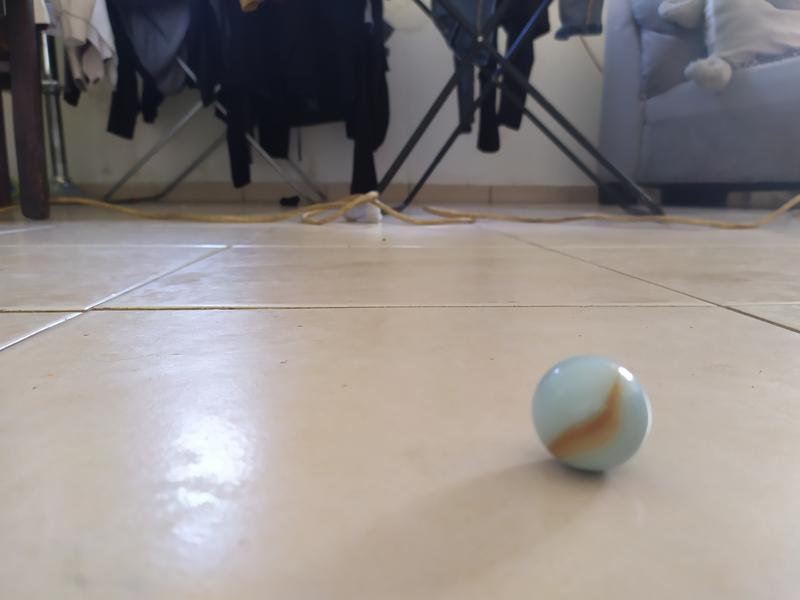Warning: (527, 350, 654, 475)
